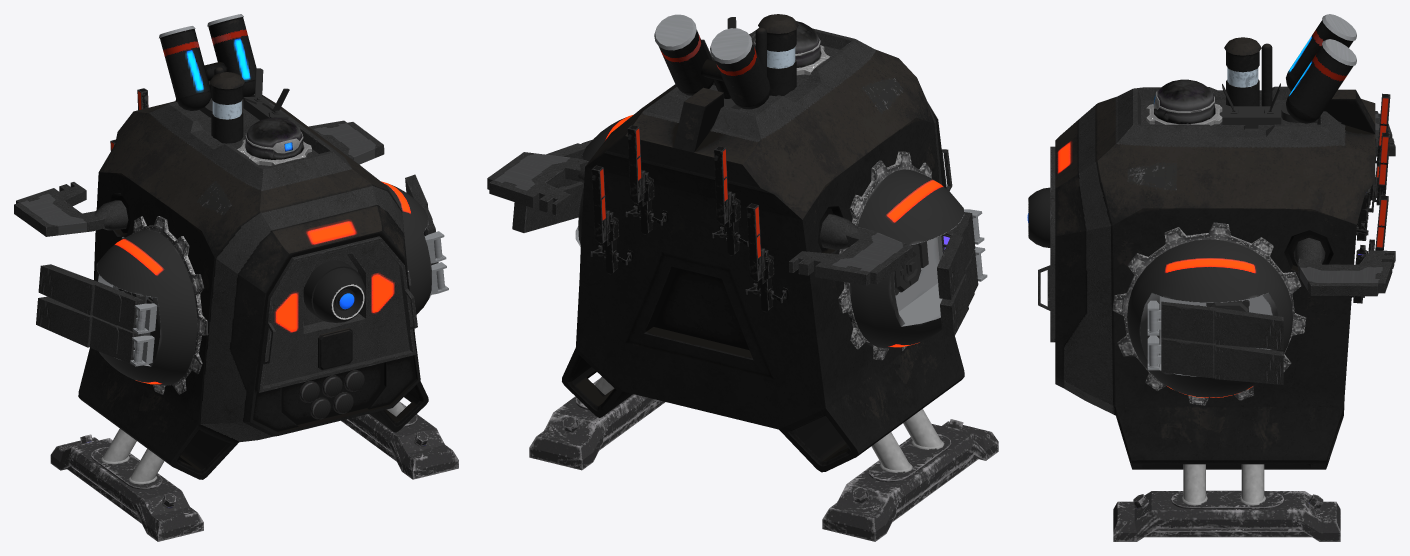
Rendered from Penguin_Black.glb.
3 views of the same model, side by side, from view 1: azimuth 30°, elevation 25°; view 2: azimuth 150°, elevation 25°; view 3: azimuth 270°, elevation 25° (orthographic). The views are drawn at different scales.
Visible parts, largest first — view 1: Penguin; view 2: Penguin; view 3: Penguin.
Part boxes in pixels (left/top/right/bottom): Penguin: left=14, top=14, right=458, bottom=541; Penguin: left=487, top=14, right=998, bottom=541; Penguin: left=1027, top=14, right=1395, bottom=541.
Bounding box in the file's own units: 1.46 × 1.49 × 1.14.
1 material, 1 textured.
